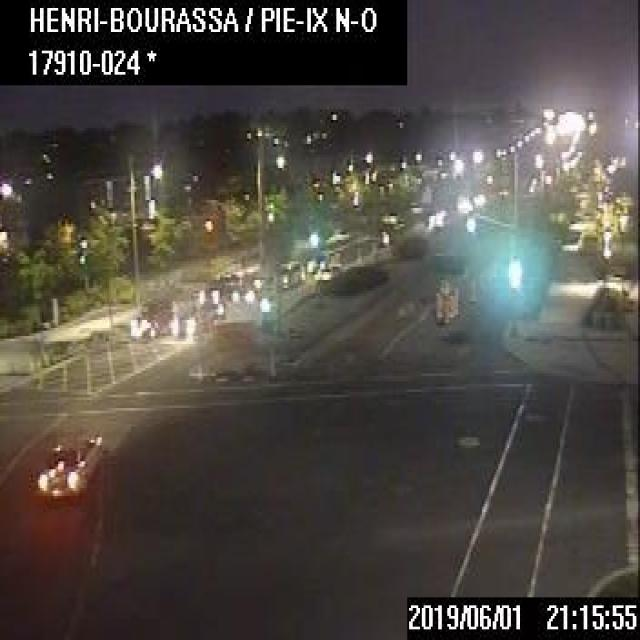construction: (200, 312, 276, 384), (434, 252, 464, 305), (441, 297, 449, 323), (435, 290, 440, 322), (452, 285, 457, 314), (448, 291, 453, 317)
vehicle: (38, 427, 102, 496), (129, 297, 173, 336), (173, 301, 213, 335), (271, 259, 298, 288), (230, 278, 254, 301), (312, 261, 340, 279), (202, 296, 224, 318), (197, 283, 220, 301), (257, 292, 270, 323), (306, 250, 325, 268)
